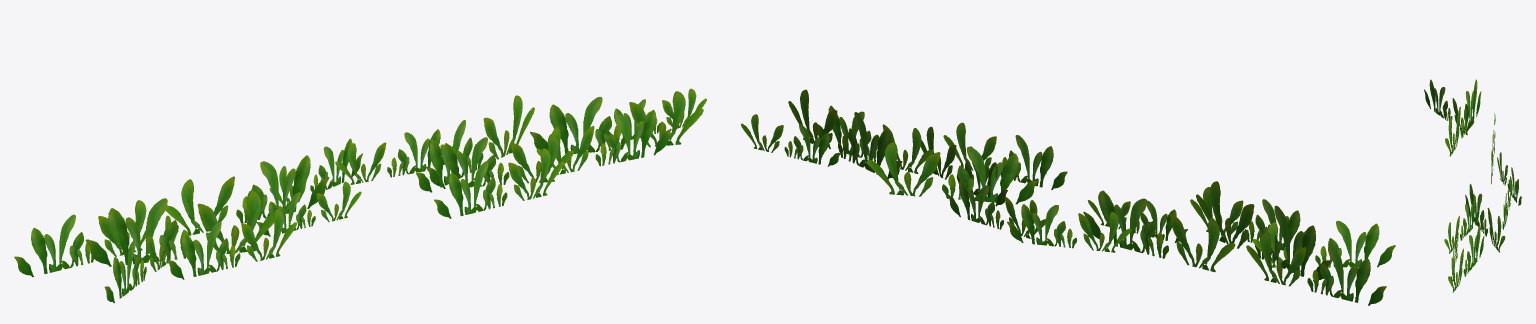
The model's file is DN_grass09_sl02.FBX.
The picture shows the model from 3 angles, left to right: view 1: azimuth 30°, elevation 25°; view 2: azimuth 150°, elevation 25°; view 3: azimuth 270°, elevation 25°; orthographic projection. The views are drawn at different scales.
Visible parts, largest first — view 1: DN_grass09_sl02; view 2: DN_grass09_sl02; view 3: DN_grass09_sl02.
Part boxes in pixels (x1,y1,x2,y2): DN_grass09_sl02: (14, 88, 706, 302); DN_grass09_sl02: (741, 89, 1395, 305); DN_grass09_sl02: (1424, 79, 1521, 292).
Size of the model in its own units: 191 by 37.88 by 36.05.
